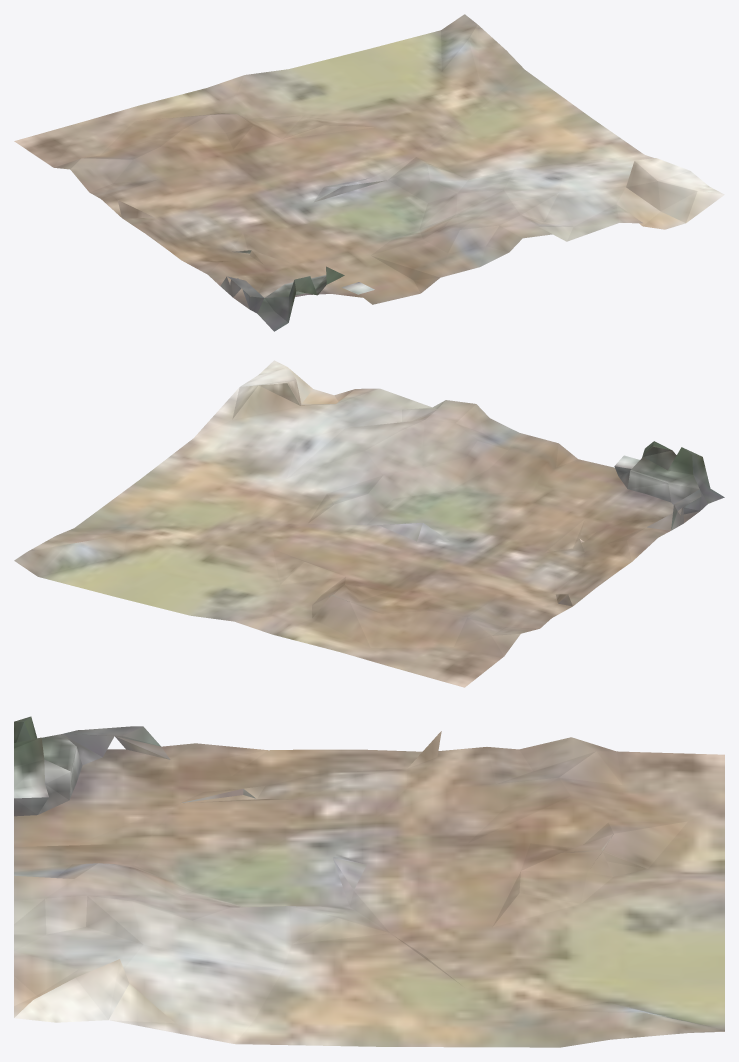
Rendered from Tile__004__007_L16_00.glb.
3 views of the same model, one above another, from view 1: azimuth 30°, elevation 25°; view 2: azimuth 150°, elevation 25°; view 3: azimuth 270°, elevation 25° (orthographic). The views are drawn at different scales.
Parts seen in each view (by area): view 1: root; view 2: root; view 3: root.
Boxes of the visible parts, x1=… form: root: x1=14, y1=14, x2=724, y2=331; root: x1=14, y1=360, x2=724, y2=687; root: x1=14, y1=716, x2=724, y2=1047.
Size of the model in its own units: 101 by 10.02 by 101.
1 material, 1 textured.
